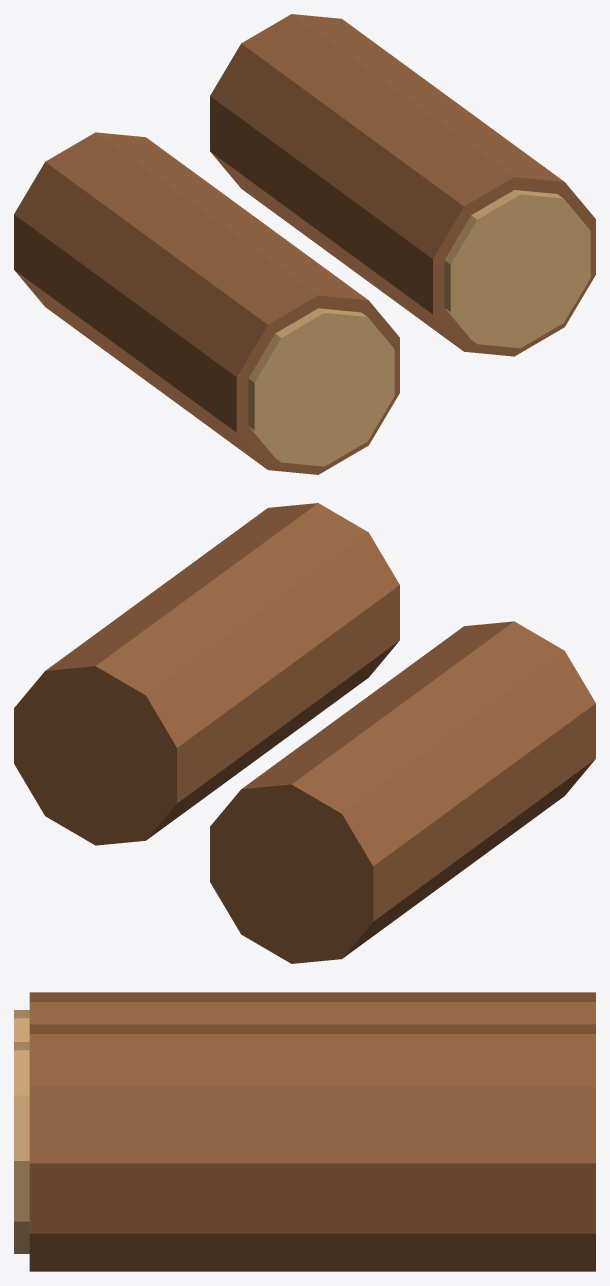
The model's file is wood.glb.
3 views of the same model, one above another, from view 1: azimuth 30°, elevation 25°; view 2: azimuth 150°, elevation 25°; view 3: azimuth 270°, elevation 25° (orthographic). The views are drawn at different scales.
Visible parts, largest first — view 1: Icon_Cylinder, Icon_Cylinder.002, Icon_Cylinder.001, Icon_Cylinder.003; view 2: Icon_Cylinder, Icon_Cylinder.002; view 3: Icon_Cylinder.002, Icon_Cylinder, Icon_Cylinder.003, Icon_Cylinder.001.
Boxes of the visible parts, x1=… form: Icon_Cylinder: x1=14, y1=132, x2=399, y2=474; Icon_Cylinder.002: x1=210, y1=14, x2=595, y2=356; Icon_Cylinder.001: x1=248, y1=308, x2=394, y2=466; Icon_Cylinder.003: x1=444, y1=190, x2=590, y2=348; Icon_Cylinder: x1=210, y1=621, x2=595, y2=963; Icon_Cylinder.002: x1=14, y1=503, x2=399, y2=845; Icon_Cylinder.002: x1=29, y1=1024, x2=595, y2=1271; Icon_Cylinder: x1=29, y1=992, x2=595, y2=1024; Icon_Cylinder.003: x1=14, y1=1042, x2=29, y2=1253; Icon_Cylinder.001: x1=14, y1=1010, x2=29, y2=1041.
Bounding box in the file's own units: 0.5863 × 0.39 × 0.6475.
